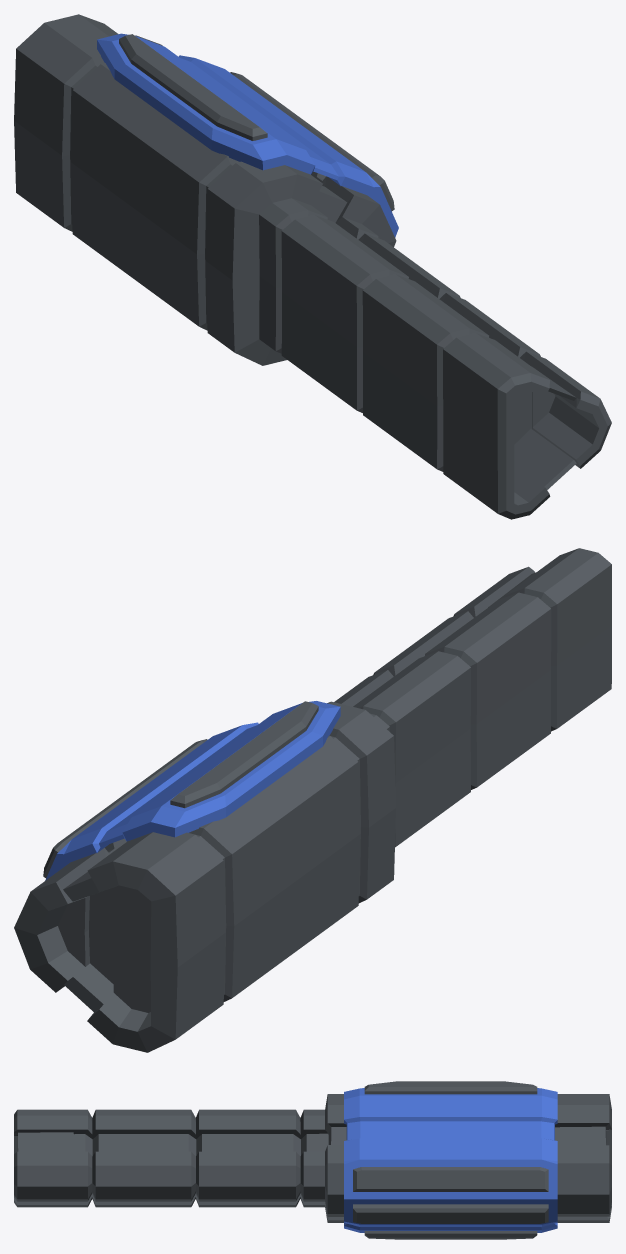
The model's file is Fighter_10_Thruster_Left_Blue.fbx.
3 renders of one model, top to bottom at view 1: azimuth 30°, elevation 25°; view 2: azimuth 150°, elevation 25°; view 3: azimuth 270°, elevation 25°, orthographic. The views are drawn at different scales.
Visible parts, largest first — view 1: Fighter_10_Thruster_Left_Blue; view 2: Fighter_10_Thruster_Left_Blue; view 3: Fighter_10_Thruster_Left_Blue.
Part boxes in pixels (x1=…): Fighter_10_Thruster_Left_Blue: x1=14, y1=14, x2=611, y2=519; Fighter_10_Thruster_Left_Blue: x1=14, y1=548, x2=611, y2=1052; Fighter_10_Thruster_Left_Blue: x1=14, y1=1081, x2=611, y2=1239.
Size of the model in its own units: 311 by 362 by 1360.
Materials: 2 (2 with a texture image).
